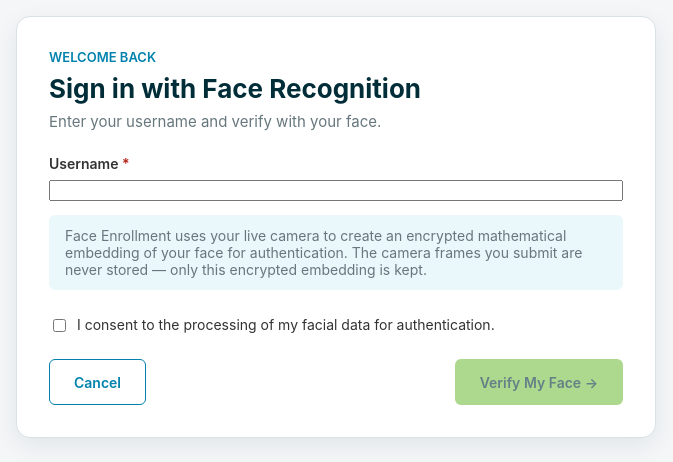
Test: FaceLoginPage › requires a username and consent before Verify My Face is enabled
Check: the button "Verify My Face →" is disabled, box [455,359,623,405]
Type "employee.username" into the field labelled "Username *" at (336, 190), box [49,180,623,201]
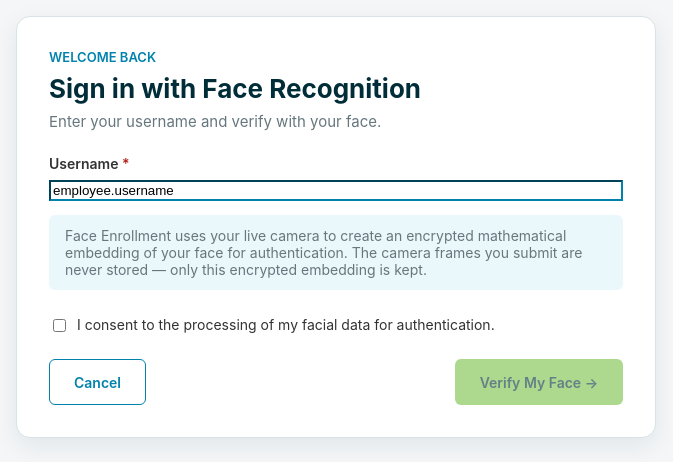
Check: the button "Verify My Face →" is disabled, box [455,359,623,405]
Click the checkbox labelled "I consent to the processing of my facial data" at (60, 326), box [53,319,66,332]
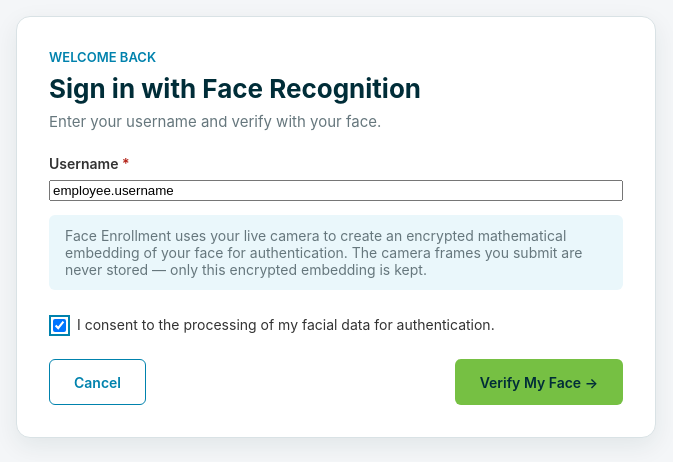
Check: the button "Verify My Face →" is enabled, box [455,359,623,405]
